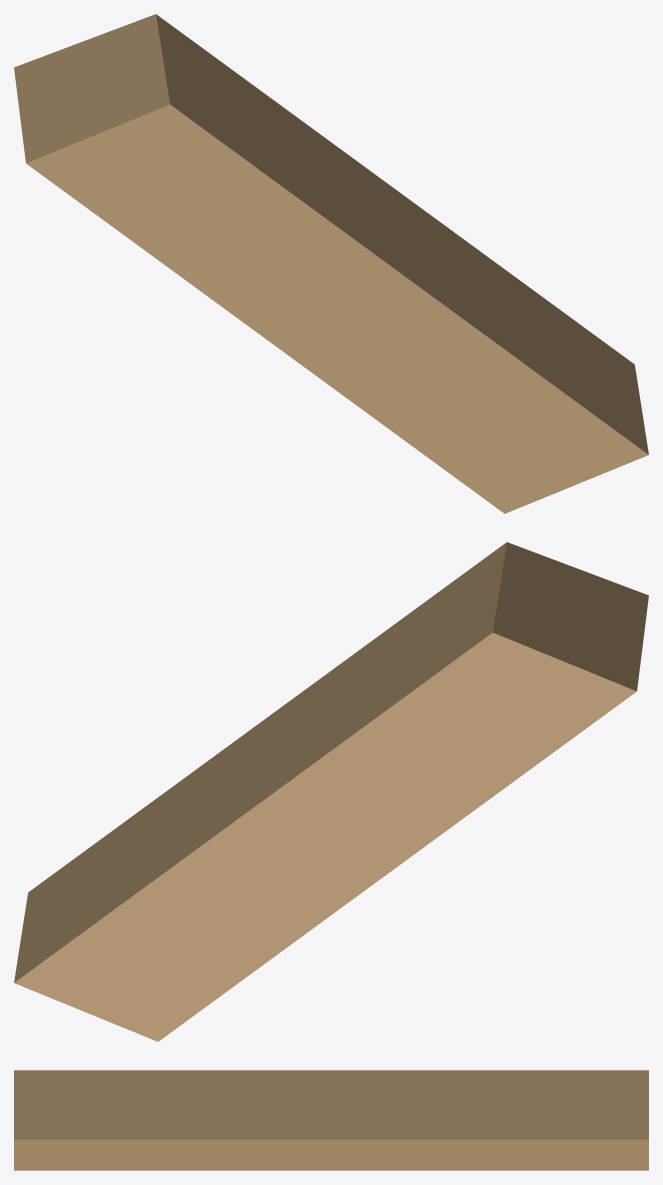
3 views of the same model, one above another, from view 1: azimuth 30°, elevation 25°; view 2: azimuth 150°, elevation 25°; view 3: azimuth 270°, elevation 25° (orthographic). The views are drawn at different scales.
Parts seen in each view (by area): view 1: 0_2_3_3_3_0_2_3_0_3_1_3; view 2: 0_2_3_3_3_0_2_3_0_3_1_3; view 3: 0_2_3_3_3_0_2_3_0_3_1_3.
Boxes of the visible parts, left/top/right/bottom form: 0_2_3_3_3_0_2_3_0_3_1_3: left=14, top=14, right=648, bottom=513; 0_2_3_3_3_0_2_3_0_3_1_3: left=14, top=542, right=648, bottom=1041; 0_2_3_3_3_0_2_3_0_3_1_3: left=14, top=1070, right=648, bottom=1170.
Bounding box in the file's own units: 3.95 × 2.85 × 21.
